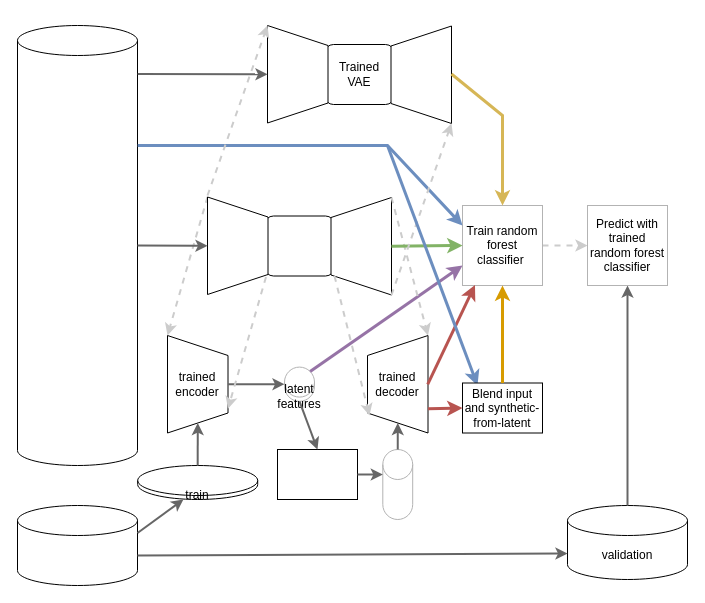
Image size: 705x603. Some labels were removed from this diagram. Here are the shapes that lost their labels. From the top down, the box of each, then its label:
(16, 24, 138, 466): TCGA GEXP 5K less cohort_n
(264, 215, 334, 276): VAE training
(276, 448, 358, 500): Recombine latent feature vectors
(382, 448, 413, 520): synthetic latent features
(16, 504, 138, 586): cohort_n
